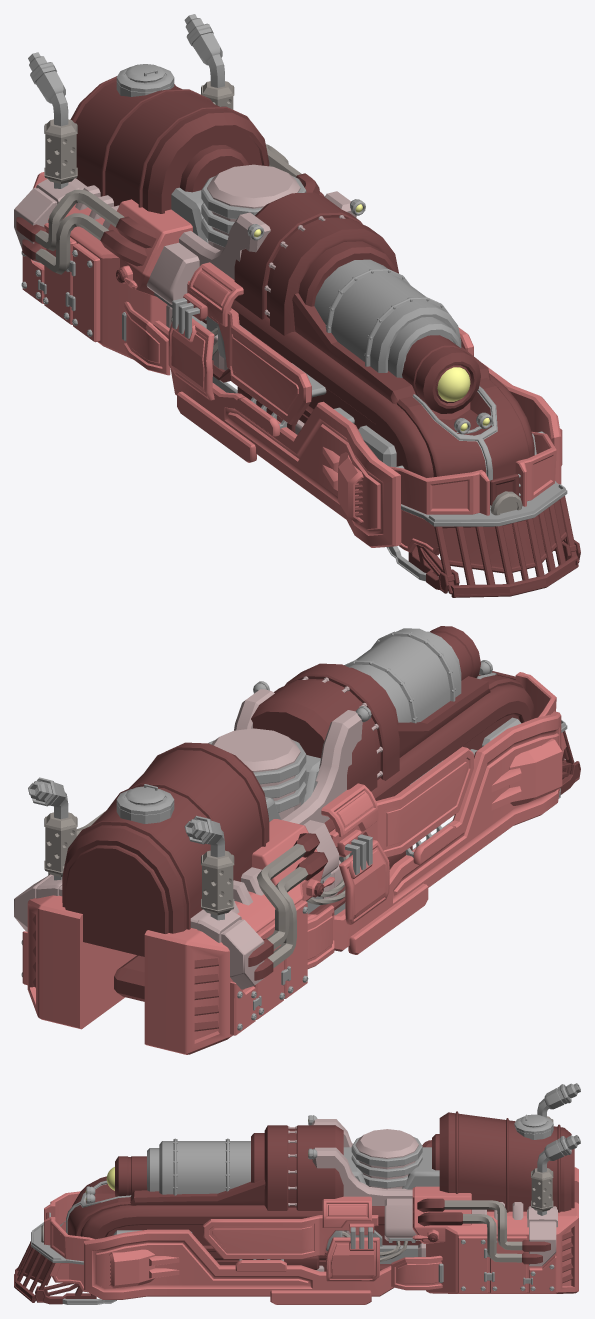
Rendered from nuclear_engine_export_v001.fbx.
3 views of the same model, one above another, from view 1: azimuth 30°, elevation 25°; view 2: azimuth 150°, elevation 25°; view 3: azimuth 270°, elevation 25° (orthographic). The views are drawn at different scales.
Visible parts, largest first — view 1: main_red_v002, outer_plate_red_v001, main_gray_v001, main_red_v003, pipes_brown_v001, glass_lens; view 2: outer_plate_red_v001, main_red_v002, main_gray_v001, main_red_v003, pipes_brown_v001; view 3: outer_plate_red_v001, main_red_v002, main_gray_v001, main_red_v003, pipes_brown_v001.
Boxes of the visible parts, x1=… form: main_red_v002: x1=16, y1=76, x2=580, y2=597; outer_plate_red_v001: x1=22, y1=172, x2=562, y2=555; main_gray_v001: x1=21, y1=14, x2=567, y2=581; main_red_v003: x1=14, y1=164, x2=356, y2=434; pipes_brown_v001: x1=35, y1=81, x2=522, y2=515; glass_lens: x1=254, y1=204, x2=489, y2=431; outer_plate_red_v001: x1=22, y1=672, x2=566, y2=1054; main_red_v002: x1=32, y1=626, x2=580, y2=1031; main_gray_v001: x1=21, y1=628, x2=567, y2=1030; main_red_v003: x1=14, y1=676, x2=382, y2=989; pipes_brown_v001: x1=44, y1=811, x2=350, y2=967; outer_plate_red_v001: x1=44, y1=1167, x2=578, y2=1304; main_red_v002: x1=14, y1=1111, x2=574, y2=1304; main_gray_v001: x1=31, y1=1083, x2=580, y2=1304; main_red_v003: x1=288, y1=1119, x2=557, y2=1271; pipes_brown_v001: x1=41, y1=1116, x2=553, y2=1262.
Size of the model in its own units: 52.69 by 53.18 by 158.
